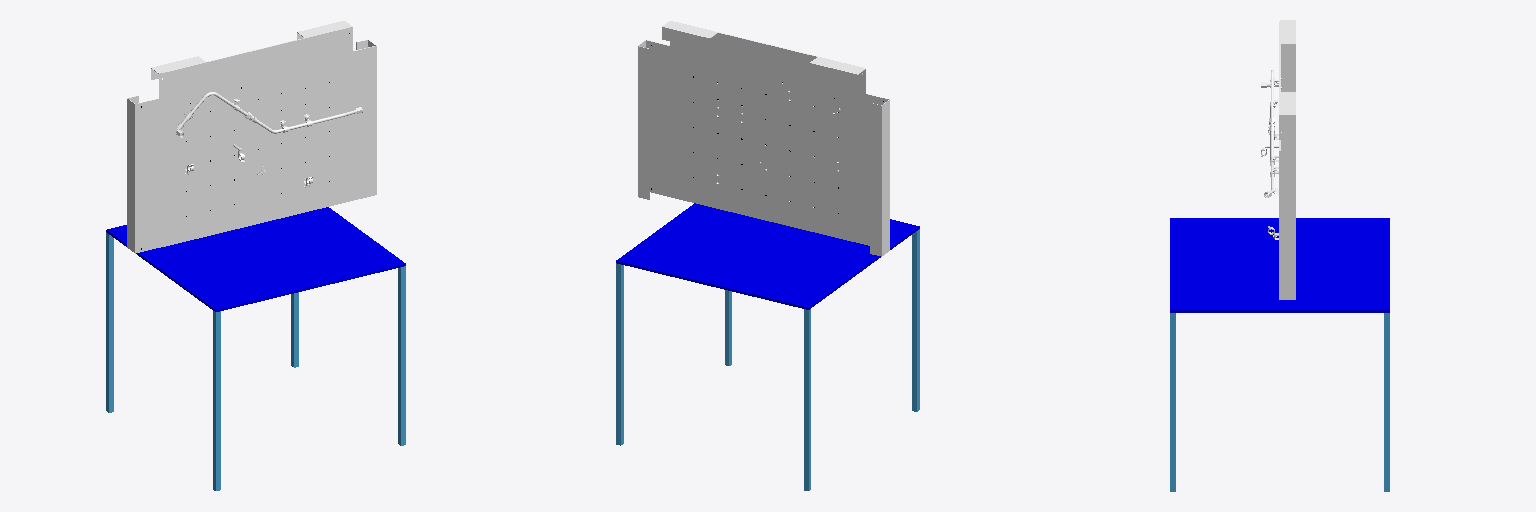
--- Render facts (derived) ---
The picture shows the robot from 3 angles, left to right: view 1: azimuth 30°, elevation 25°; view 2: azimuth 150°, elevation 25°; view 3: azimuth 270°, elevation 25°; orthographic projection.
Robot: plaque-tubes — 46 links, 45 joints (45 fixed); root link base_link; default pose: all joints at 0.
Links seen in each view (by area): view 1: plaque_link, base_link; view 2: plaque_link, base_link; view 3: base_link, plaque_link.
Link boxes in pixels (x1,y1,x2,y2): plaque_link: [127, 21, 376, 253]; base_link: [106, 207, 405, 490]; plaque_link: [638, 21, 889, 256]; base_link: [616, 203, 919, 490]; base_link: [1170, 218, 1389, 491]; plaque_link: [1261, 20, 1295, 299].
Bounding box of the posed robot: 1.01 × 0.8 × 1.52 m (x, y, z).
1 mesh visuals loaded from 1 distinct referenced files (1 binary STL).

robot.urdf — plaque-tubes:
<robot name="plaque-tubes">

  <material name="black">
    <color rgba="0 0 0 1.0"/>
  </material>

  <material name="white">
    <color rgba="1 1 1 1.0"/>
  </material>

  <material name="red">
    <color rgba="1 0 0 1.0"/>
  </material>

  <gazebo reference="plaque_link">
    <material>Gazebo/White</material>
  </gazebo>

  <gazebo reference="base_link">
    <material>Gazebo/Wood</material>
  </gazebo>

<gazebo reference="hole_01_link">
    <material>Gazebo/Black</material>
  </gazebo>
<gazebo reference="hole_02_link">
    <material>Gazebo/Black</material>
  </gazebo>
<gazebo reference="hole_03_link">
    <material>Gazebo/Black</material>
  </gazebo>
<gazebo reference="hole_04_link">
    <material>Gazebo/Black</material>
  </gazebo>
<gazebo reference="hole_05_link">
    <material>Gazebo/Black</material>
  </gazebo>
<gazebo reference="hole_06_link">
    <material>Gazebo/Black</material>
  </gazebo>
<gazebo reference="hole_07_link">
    <material>Gazebo/Black</material>
  </gazebo>
<gazebo reference="hole_08_link">
    <material>Gazebo/Black</material>
  </gazebo>
<gazebo reference="hole_09_link">
    <material>Gazebo/Black</material>
  </gazebo>
<gazebo reference="hole_10_link">
    <material>Gazebo/Black</material>
  </gazebo>
<gazebo reference="hole_11_link">
    <material>Gazebo/Black</material>
  </gazebo>
<gazebo reference="hole_12_link">
    <material>Gazebo/Black</material>
  </gazebo>
<gazebo reference="hole_13_link">
    <material>Gazebo/Black</material>
  </gazebo>
<gazebo reference="hole_14_link">
    <material>Gazebo/Black</material>
  </gazebo>
<gazebo reference="hole_15_link">
    <material>Gazebo/Black</material>
  </gazebo>
<gazebo reference="hole_16_link">
    <material>Gazebo/Black</material>
  </gazebo>
<gazebo reference="hole_17_link">
    <material>Gazebo/Black</material>
  </gazebo>
<gazebo reference="hole_18_link">
    <material>Gazebo/Black</material>
  </gazebo>
<gazebo reference="hole_19_link">
    <material>Gazebo/Black</material>
  </gazebo>
<gazebo reference="hole_20_link">
    <material>Gazebo/Black</material>
  </gazebo>
<gazebo reference="hole_21_link">
    <material>Gazebo/Black</material>
  </gazebo>
<gazebo reference="hole_22_link">
    <material>Gazebo/Black</material>
  </gazebo>
<gazebo reference="hole_23_link">
    <material>Gazebo/Black</material>
  </gazebo>
<gazebo reference="hole_24_link">
    <material>Gazebo/Black</material>
  </gazebo>
<gazebo reference="hole_25_link">
    <material>Gazebo/Black</material>
  </gazebo>
<gazebo reference="hole_26_link">
    <material>Gazebo/Black</material>
  </gazebo>
<gazebo reference="hole_27_link">
    <material>Gazebo/Black</material>
  </gazebo>
<gazebo reference="hole_28_link">
    <material>Gazebo/Black</material>
  </gazebo>
<gazebo reference="hole_29_link">
    <material>Gazebo/Black</material>
  </gazebo>
<gazebo reference="hole_30_link">
    <material>Gazebo/Black</material>
  </gazebo>
<gazebo reference="hole_31_link">
    <material>Gazebo/Black</material>
  </gazebo>
<gazebo reference="hole_32_link">
    <material>Gazebo/Black</material>
  </gazebo>
<gazebo reference="hole_33_link">
    <material>Gazebo/Black</material>
  </gazebo>
<gazebo reference="hole_34_link">
    <material>Gazebo/Black</material>
  </gazebo>
<gazebo reference="hole_35_link">
    <material>Gazebo/Black</material>
  </gazebo>
<gazebo reference="hole_36_link">
    <material>Gazebo/Black</material>
  </gazebo>
<gazebo reference="hole_37_link">
    <material>Gazebo/Black</material>
  </gazebo>
<gazebo reference="hole_38_link">
    <material>Gazebo/Black</material>
  </gazebo>
<gazebo reference="hole_39_link">
    <material>Gazebo/Black</material>
  </gazebo>
<gazebo reference="hole_40_link">
    <material>Gazebo/Black</material>
  </gazebo>
<gazebo reference="hole_41_link">
    <material>Gazebo/Black</material>
  </gazebo>
<gazebo reference="hole_42_link">
    <material>Gazebo/Black</material>
  </gazebo>
<gazebo reference="hole_43_link">
    <material>Gazebo/Black</material>
  </gazebo>
<gazebo reference="hole_44_link">
    <material>Gazebo/Black</material>
  </gazebo>


  <link name="plaque_link">  
    <visual>
      <origin xyz="0 0 0" rpy="0 0 0" />
      <geometry>
        <mesh filename="package://agimus_demos/meshes/plaque-tubes-scaled.stl"/>
      </geometry>
        <material name="white">
          <color rgba="1 1 1 1"/>
        </material>
    </visual>
    <collision>
      <origin xyz="0 0 0" rpy="0 0 0" />
      <geometry>
        <mesh filename="package://agimus_demos/meshes/plaque-tubes-scaled.stl"/>
      </geometry>
    </collision>
    <inertial>
      <mass value="2.2"/>
      <origin xyz="0 0 0" rpy="0 0 0"/>
      <inertia ixx="0.1"  ixy="0"  ixz="0" iyy="0.1" iyz="0" izz="0.1" />
    </inertial>
  </link>

  <!-- Table -->
  <joint name="plaque_joint" type="fixed">
    <parent link="base_link"/>
    <child link="plaque_link"/>
    <origin xyz="-0.5075 0 1.52" rpy="1.5708 0 0"/>
  </joint>

  <link name="base_link">
    <visual>
      <origin xyz="0 0 .725"/>
      <geometry>
        <box size="0.8 0.8 .01"/>
      </geometry>
      <material name="blue">
        <color rgba="0 0 1 1"/>
      </material>
    </visual>
    <visual>
      <origin xyz=".39 .39 .36"/>
      <geometry>
        <box size=".02 .02 .72"/>
      </geometry>
    </visual>
    <visual>
      <origin xyz="-.39 .39 .36"/>
      <geometry>
        <box size=".02 .02 .72"/>
      </geometry>
    </visual>
    <visual>
      <origin xyz="-.39 -.39 .36"/>
      <geometry>
        <box size=".02 .02 .72"/>
      </geometry>
    </visual>
    <visual>
      <origin xyz=".39 -.39 .36"/>
      <geometry>
        <box size=".02 .02 .72"/>
      </geometry>
    </visual>

    <collision>
      <origin xyz="0 0 .725"/>
      <geometry>
        <box size="0.84 .84 .01"/>
      </geometry>
    </collision>
    <collision>
      <origin xyz=".39 .39 .36"/>
      <geometry>
        <box size=".02 .02 .72"/>
      </geometry>
    </collision>
    <collision>
      <origin xyz="-.39 .39 .36"/>
      <geometry>
        <box size=".02 .02 .72"/>
      </geometry>
    </collision>
    <collision>
      <origin xyz="-.39 -.39 .36"/>
      <geometry>
        <box size=".02 .02 .72"/>
      </geometry>
    </collision>
    <collision>
      <origin xyz=".39 -.39 .36"/>
      <geometry>
        <box size=".02 .02 .72"/>
      </geometry>
    </collision>
    <inertial>
      <mass value="2.2"/>
      <origin xyz="0 0 0.65" rpy="0 0 0"/>
      <inertia ixx="0.1"  ixy="0"  ixz="0" iyy="0.1" iyz="0" izz="0.1" />
    </inertial>
  </link>
  
  <link name="hole_01_link">
    <visual>
        <geometry>
            <sphere radius="0.003" />
        </geometry>
        <material name="black">
          <color rgba="0 0 0 1"/>
        </material>
    </visual>
  </link>
  <joint name="to_hole_01" type="fixed">
    <parent link="plaque_link" />
    <child link="hole_01_link" />
    <origin xyz="0.215 -0.2 0" rpy="0 0 0" />
  </joint>

  <link name="hole_02_link">
    <visual>
        <geometry>
            <sphere radius="0.003" />
        </geometry>
        <material name="black">
          <color rgba="0 0 0 1"/>
        </material>
    </visual>
  </link>
  <joint name="to_hole_02" type="fixed">
    <parent link="plaque_link" />
    <child link="hole_02_link" />
    <origin xyz="0.315 -0.2 0" rpy="0 0 0" />
  </joint>

  <link name="hole_03_link">
    <visual>
        <geometry>
            <sphere radius="0.003" />
        </geometry>
        <material name="black">
          <color rgba="0 0 0 1"/>
        </material>
    </visual>
  </link>
  <joint name="to_hole_03" type="fixed">
    <parent link="plaque_link" />
    <child link="hole_03_link" />
    <origin xyz="0.415 -0.2 0" rpy="0 0 0" />
  </joint>

  <link name="hole_04_link">
    <visual>
        <geometry>
            <sphere radius="0.003" />
        </geometry>
        <material name="black">
          <color rgba="0 0 0 1"/>
        </material>
    </visual>
  </link>
  <joint name="to_hole_04" type="fixed">
    <parent link="plaque_link" />
    <child link="hole_04_link" />
    <origin xyz="0.515 -0.2 0" rpy="0 0 0" />
  </joint>

  <link name="hole_05_link">
    <visual>
        <geometry>
            <sphere radius="0.003" />
        </geometry>
        <material name="black">
          <color rgba="0 0 0 1"/>
        </material>
    </visual>
  </link>
  <joint name="to_hole_05" type="fixed">
    <parent link="plaque_link" />
    <child link="hole_05_link" />
    <origin xyz="0.615 -0.2 0" rpy="0 0 0" />
  </joint>

  <link name="hole_06_link">
    <visual>
        <geometry>
            <sphere radius="0.003" />
        </geometry>
        <material name="black">
          <color rgba="0 0 0 1"/>
        </material>
    </visual>
  </link>
  <joint name="to_hole_06" type="fixed">
    <parent link="plaque_link" />
    <child link="hole_06_link" />
    <origin xyz="0.715 -0.2 0" rpy="0 0 0" />
  </joint>

  <link name="hole_07_link">
    <visual>
        <geometry>
            <sphere radius="0.003" />
        </geometry>
        <material name="black">
          <color rgba="0 0 0 1"/>
        </material>
    </visual>
  </link>
  <joint name="to_hole_07" type="fixed">
    <parent link="plaque_link" />
    <child link="hole_07_link" />
    <origin xyz="0.815 -0.2 0" rpy="0 0 0" />
  </joint>

  <link name="hole_08_link">
    <visual>
        <geometry>
            <sphere radius="0.003" />
        </geometry>
        <material name="black">
          <color rgba="0 0 0 1"/>
        </material>
    </visual>
  </link>
  <joint name="to_hole_08" type="fixed">
    <parent link="plaque_link" />
    <child link="hole_08_link" />
    <origin xyz="0.215 -0.3 0" rpy="0 0 0" />
  </joint>

  <link name="hole_09_link">
    <visual>
        <geometry>
            <sphere radius="0.003" />
        </geometry>
        <material name="black">
          <color rgba="0 0 0 1"/>
        </material>
    </visual>
  </link>
  <joint name="to_hole_09" type="fixed">
    <parent link="plaque_link" />
    <child link="hole_09_link" />
    <origin xyz="0.315 -0.3 0" rpy="0 0 0" />
  </joint>

  <link name="hole_10_link">
    <visual>
        <geometry>
            <sphere radius="0.003" />
        </geometry>
        <material name="black">
          <color rgba="0 0 0 1"/>
        </material>
    </visual>
  </link>
  <joint name="to_hole_10" type="fixed">
    <parent link="plaque_link" />
    <child link="hole_10_link" />
    <origin xyz="0.415 -0.3 0" rpy="0 0 0" />
  </joint>

  <link name="hole_11_link">
    <visual>
        <geometry>
            <sphere radius="0.003" />
        </geometry>
        <material name="black">
          <color rgba="0 0 0 1"/>
        </material>
    </visual>
  </link>
  <joint name="to_hole_11" type="fixed">
    <parent link="plaque_link" />
    <child link="hole_11_link" />
    <origin xyz="0.515 -0.3 0" rpy="0 0 0" />
  </joint>

  <link name="hole_12_link">
    <visual>
        <geometry>
            <sphere radius="0.003" />
        </geometry>
        <material name="black">
          <color rgba="0 0 0 1"/>
        </material>
    </visual>
  </link>
  <joint name="to_hole_12" type="fixed">
    <parent link="plaque_link" />
    <child link="hole_12_link" />
    <origin xyz="0.615 -0.3 0" rpy="0 0 0" />
  </joint>

  <link name="hole_13_link">
    <visual>
        <geometry>
            <sphere radius="0.003" />
        </geometry>
        <material name="black">
          <color rgba="0 0 0 1"/>
        </material>
    </visual>
  </link>
  <joint name="to_hole_13" type="fixed">
    <parent link="plaque_link" />
    <child link="hole_13_link" />
    <origin xyz="0.715 -0.3 0" rpy="0 0 0" />
  </joint>

  <link name="hole_14_link">
    <visual>
        <geometry>
            <sphere radius="0.003" />
        </geometry>
        <material name="black">
          <color rgba="0 0 0 1"/>
        </material>
    </visual>
  </link>
  <joint name="to_hole_14" type="fixed">
    <parent link="plaque_link" />
    <child link="hole_14_link" />
    <origin xyz="0.815 -0.3 0" rpy="0 0 0" />
  </joint>

  <link name="hole_15_link">
    <visual>
        <geometry>
            <sphere radius="0.003" />
        </geometry>
        <material name="black">
          <color rgba="0 0 0 1"/>
        </material>
    </visual>
  </link>
  <joint name="to_hole_15" type="fixed">
    <parent link="plaque_link" />
    <child link="hole_15_link" />
    <origin xyz="0.215 -0.4 0" rpy="0 0 0" />
  </joint>

  <link name="hole_16_link">
    <visual>
        <geometry>
            <sphere radius="0.003" />
        </geometry>
        <material name="black">
          <color rgba="0 0 0 1"/>
        </material>
    </visual>
  </link>
  <joint name="to_hole_16" type="fixed">
    <parent link="plaque_link" />
    <child link="hole_16_link" />
    <origin xyz="0.315 -0.4 0" rpy="0 0 0" />
  </joint>

  <link name="hole_17_link">
    <visual>
        <geometry>
            <sphere radius="0.003" />
        </geometry>
        <material name="black">
          <color rgba="0 0 0 1"/>
        </material>
    </visual>
  </link>
  <joint name="to_hole_17" type="fixed">
    <parent link="plaque_link" />
    <child link="hole_17_link" />
    <origin xyz="0.415 -0.4 0" rpy="0 0 0" />
  </joint>

  <link name="hole_18_link">
    <visual>
        <geometry>
            <sphere radius="0.003" />
        </geometry>
        <material name="black">
          <color rgba="0 0 0 1"/>
        </material>
    </visual>
  </link>
  <joint name="to_hole_18" type="fixed">
    <parent link="plaque_link" />
    <child link="hole_18_link" />
    <origin xyz="0.515 -0.4 0" rpy="0 0 0" />
  </joint>

  <link name="hole_19_link">
    <visual>
        <geometry>
            <sphere radius="0.003" />
        </geometry>
        <material name="black">
          <color rgba="0 0 0 1"/>
        </material>
    </visual>
  </link>
  <joint name="to_hole_19" type="fixed">
    <parent link="plaque_link" />
    <child link="hole_19_link" />
    <origin xyz="0.615 -0.4 0" rpy="0 0 0" />
  </joint>

  <link name="hole_20_link">
    <visual>
        <geometry>
            <sphere radius="0.003" />
        </geometry>
        <material name="black">
          <color rgba="0 0 0 1"/>
        </material>
    </visual>
  </link>
  <joint name="to_hole_20" type="fixed">
    <parent link="plaque_link" />
    <child link="hole_20_link" />
    <origin xyz="0.715 -0.4 0" rpy="0 0 0" />
  </joint>

  <link name="hole_21_link">
    <visual>
        <geometry>
            <sphere radius="0.003" />
        </geometry>
        <material name="black">
          <color rgba="0 0 0 1"/>
        </material>
    </visual>
  </link>
  <joint name="to_hole_21" type="fixed">
    <parent link="plaque_link" />
    <child link="hole_21_link" />
    <origin xyz="0.815 -0.4 0" rpy="0 0 0" />
  </joint>

  <link name="hole_22_link">
    <visual>
        <geometry>
            <sphere radius="0.003" />
        </geometry>
        <material name="black">
          <color rgba="0 0 0 1"/>
        </material>
    </visual>
  </link>
  <joint name="to_hole_22" type="fixed">
    <parent link="plaque_link" />
    <child link="hole_22_link" />
    <origin xyz="0.215 -0.5 0" rpy="0 0 0" />
  </joint>

  <link name="hole_23_link">
    <visual>
        <geometry>
            <sphere radius="0.003" />
        </geometry>
        <material name="black">
          <color rgba="0 0 0 1"/>
        </material>
    </visual>
  </link>
  <joint name="to_hole_23" type="fixed">
    <parent link="plaque_link" />
    <child link="hole_23_link" />
    <origin xyz="0.315 -0.5 0" rpy="0 0 0" />
  </joint>

  <link name="hole_24_link">
    <visual>
        <geometry>
            <sphere radius="0.003" />
        </geometry>
        <material name="black">
          <color rgba="0 0 0 1"/>
        </material>
    </visual>
  </link>
  <joint name="to_hole_24" type="fixed">
    <parent link="plaque_link" />
    <child link="hole_24_link" />
    <origin xyz="0.415 -0.5 0" rpy="0 0 0" />
  </joint>

  <link name="hole_25_link">
    <visual>
        <geometry>
            <sphere radius="0.003" />
        </geometry>
        <material name="black">
          <color rgba="0 0 0 1"/>
        </material>
    </visual>
  </link>
  <joint name="to_hole_25" type="fixed">
    <parent link="plaque_link" />
    <child link="hole_25_link" />
    <origin xyz="0.515 -0.5 0" rpy="0 0 0" />
  </joint>

  <link name="hole_26_link">
    <visual>
        <geometry>
            <sphere radius="0.003" />
        </geometry>
        <material name="black">
          <color rgba="0 0 0 1"/>
        </material>
    </visual>
  </link>
  <joint name="to_hole_26" type="fixed">
    <parent link="plaque_link" />
    <child link="hole_26_link" />
    <origin xyz="0.615 -0.5 0" rpy="0 0 0" />
  </joint>

  <link name="hole_27_link">
    <visual>
        <geometry>
            <sphere radius="0.003" />
        </geometry>
        <material name="black">
          <color rgba="0 0 0 1"/>
        </material>
    </visual>
  </link>
  <joint name="to_hole_27" type="fixed">
    <parent link="plaque_link" />
    <child link="hole_27_link" />
    <origin xyz="0.715 -0.5 0" rpy="0 0 0" />
  </joint>

  <link name="hole_28_link">
    <visual>
        <geometry>
            <sphere radius="0.003" />
        </geometry>
        <material name="black">
          <color rgba="0 0 0 1"/>
        </material>
    </visual>
  </link>
  <joint name="to_hole_28" type="fixed">
    <parent link="plaque_link" />
    <child link="hole_28_link" />
    <origin xyz="0.815 -0.5 0" rpy="0 0 0" />
  </joint>

  <link name="hole_29_link">
    <visual>
        <geometry>
            <sphere radius="0.003" />
        </geometry>
        <material name="black">
          <color rgba="0 0 0 1"/>
        </material>
    </visual>
  </link>
  <joint name="to_hole_29" type="fixed">
    <parent link="plaque_link" />
    <child link="hole_29_link" />
    <origin xyz="0.215 -0.6 0" rpy="0 0 0" />
  </joint>

  <link name="hole_30_link">
    <visual>
        <geometry>
            <sphere radius="0.003" />
        </geometry>
        <material name="black">
          <color rgba="0 0 0 1"/>
        </material>
    </visual>
  </link>
  <joint name="to_hole_30" type="fixed">
    <parent link="plaque_link" />
    <child link="hole_30_link" />
    <origin xyz="0.315 -0.6 0" rpy="0 0 0" />
  </joint>

  <link name="hole_31_link">
    <visual>
        <geometry>
            <sphere radius="0.003" />
        </geometry>
        <material name="black">
          <color rgba="0 0 0 1"/>
        </material>
    </visual>
  </link>
  <joint name="to_hole_31" type="fixed">
    <parent link="plaque_link" />
    <child link="hole_31_link" />
    <origin xyz="0.415 -0.6 0" rpy="0 0 0" />
  </joint>

  <link name="hole_32_link">
    <visual>
        <geometry>
            <sphere radius="0.003" />
        </geometry>
        <material name="black">
          <color rgba="0 0 0 1"/>
        </material>
    </visual>
  </link>
  <joint name="to_hole_32" type="fixed">
    <parent link="plaque_link" />
    <child link="hole_32_link" />
    <origin xyz="0.515 -0.6 0" rpy="0 0 0" />
  </joint>

  <link name="hole_33_link">
    <visual>
        <geometry>
            <sphere radius="0.003" />
        </geometry>
        <material name="black">
          <color rgba="0 0 0 1"/>
        </material>
    </visual>
  </link>
  <joint name="to_hole_33" type="fixed">
    <parent link="plaque_link" />
    <child link="hole_33_link" />
    <origin xyz="0.615 -0.6 0" rpy="0 0 0" />
  </joint>

  <link name="hole_34_link">
    <visual>
        <geometry>
            <sphere radius="0.003" />
        </geometry>
        <material name="black">
          <color rgba="0 0 0 1"/>
        </material>
    </visual>
  </link>
  <joint name="to_hole_34" type="fixed">
    <parent link="plaque_link" />
    <child link="hole_34_link" />
    <origin xyz="0.715 -0.6 0" rpy="0 0 0" />
  </joint>

  <link name="hole_35_link">
    <visual>
        <geometry>
            <sphere radius="0.003" />
        </geometry>
        <material name="black">
          <color rgba="0 0 0 1"/>
        </material>
    </visual>
  </link>
  <joint name="to_hole_35" type="fixed">
    <parent link="plaque_link" />
    <child link="hole_35_link" />
    <origin xyz="0.815 -0.6 0" rpy="0 0 0" />
  </joint>

  <link name="hole_36_link">
    <visual>
        <geometry>
            <sphere radius="0.003" />
        </geometry>
        <material name="black">
          <color rgba="0 0 0 1"/>
        </material>
    </visual>
  </link>
  <joint name="to_hole_36" type="fixed">
    <parent link="plaque_link" />
    <child link="hole_36_link" />
    <origin xyz="0.025 -0.115 0" rpy="0 0 0" />
  </joint>

  <link name="hole_37_link">
    <visual>
        <geometry>
            <sphere radius="0.003" />
        </geometry>
        <material name="black">
          <color rgba="0 0 0 1"/>
        </material>
    </visual>
  </link>
  <joint name="to_hole_37" type="fixed">
    <parent link="plaque_link" />
    <child link="hole_37_link" />
    <origin xyz="0.025 -0.686 0" rpy="0 0 0" />
  </joint>

  <link name="hole_38_link">
    <visual>
        <geometry>
            <sphere radius="0.003" />
        </geometry>
        <material name="black">
          <color rgba="0 0 0 1"/>
        </material>
    </visual>
  </link>
  <joint name="to_hole_38" type="fixed">
    <parent link="plaque_link" />
    <child link="hole_38_link" />
    <origin xyz="0.990 -0.686 0" rpy="0 0 0" />
  </joint>

  <link name="hole_39_link">
    <visual>
        <geometry>
            <sphere radius="0.003" />
        </geometry>
        <material name="black">
          <color rgba="0 0 0 1"/>
        </material>
    </visual>
  </link>
  <joint name="to_hole_39" type="fixed">
    <parent link="plaque_link" />
    <child link="hole_39_link" />
    <origin xyz="0.990 -0.115 0" rpy="0 0 0" />
  </joint>

  <link name="hole_40_link">
    <visual>
        <geometry>
            <sphere radius="0.003" />
        </geometry>
        <material name="black">
          <color rgba="0 0 0 1"/>
        </material>
    </visual>
  </link>
  <joint name="to_hole_40" type="fixed">
    <parent link="plaque_link" />
    <child link="hole_40_link" />
    <origin xyz="0.900 -0.025 0" rpy="0 0 0" />
  </joint>

  <link name="hole_41_link">
    <visual>
        <geometry>
            <sphere radius="0.003" />
        </geometry>
        <material name="black">
          <color rgba="0 0 0 1"/>
        </material>
    </visual>
  </link>
  <joint name="to_hole_41" type="fixed">
    <parent link="plaque_link" />
    <child link="hole_41_link" />
    <origin xyz="0.230 -0.148 0" rpy="0 0 0" />
  </joint>

  <link name="hole_42_link">
    <visual>
        <geometry>
            <sphere radius="0.003" />
        </geometry>
        <material name="black">
          <color rgba="0 0 0 1"/>
        </material>
    </visual>
  </link>
  <joint name="to_hole_42" type="fixed">
    <parent link="plaque_link" />
    <child link="hole_42_link" />
    <origin xyz="0.445 -0.137 0" rpy="0 0 0" />
  </joint>

  <link name="hole_43_link">
    <visual>
        <geometry>
            <sphere radius="0.003" />
        </geometry>
        <material name="black">
          <color rgba="0 0 0 1"/>
        </material>
    </visual>
  </link>
  <joint name="to_hole_43" type="fixed">
    <parent link="plaque_link" />
    <child link="hole_43_link" />
    <origin xyz="0.615 -0.267 0" rpy="0 0 0" />
  </joint>

  <link name="hole_44_link">
    <visual>
        <geometry>
            <sphere radius="0.003" />
        </geometry>
        <material name="black">
          <color rgba="0 0 0 1"/>
        </material>
    </visual>
  </link>
  <joint name="to_hole_44" type="fixed">
    <parent link="plaque_link" />
    <child link="hole_44_link" />
    <origin xyz="0.715 -0.267 0" rpy="0 0 0" />
  </joint>

</robot>
